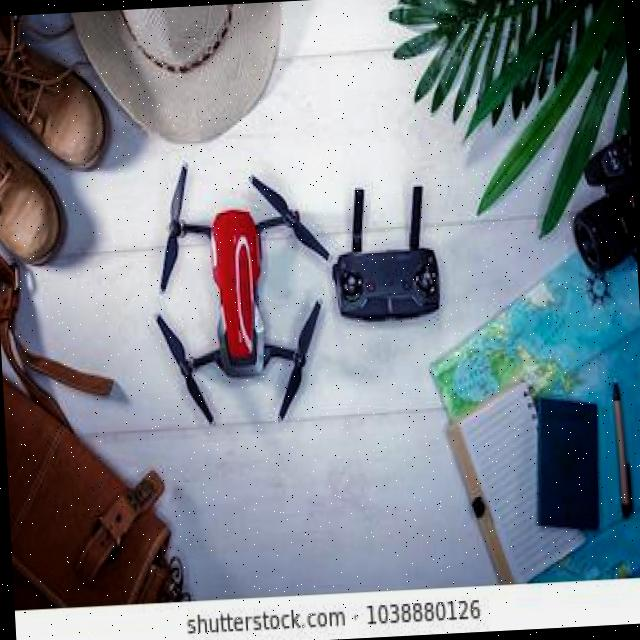drone: (132, 146, 344, 440)
